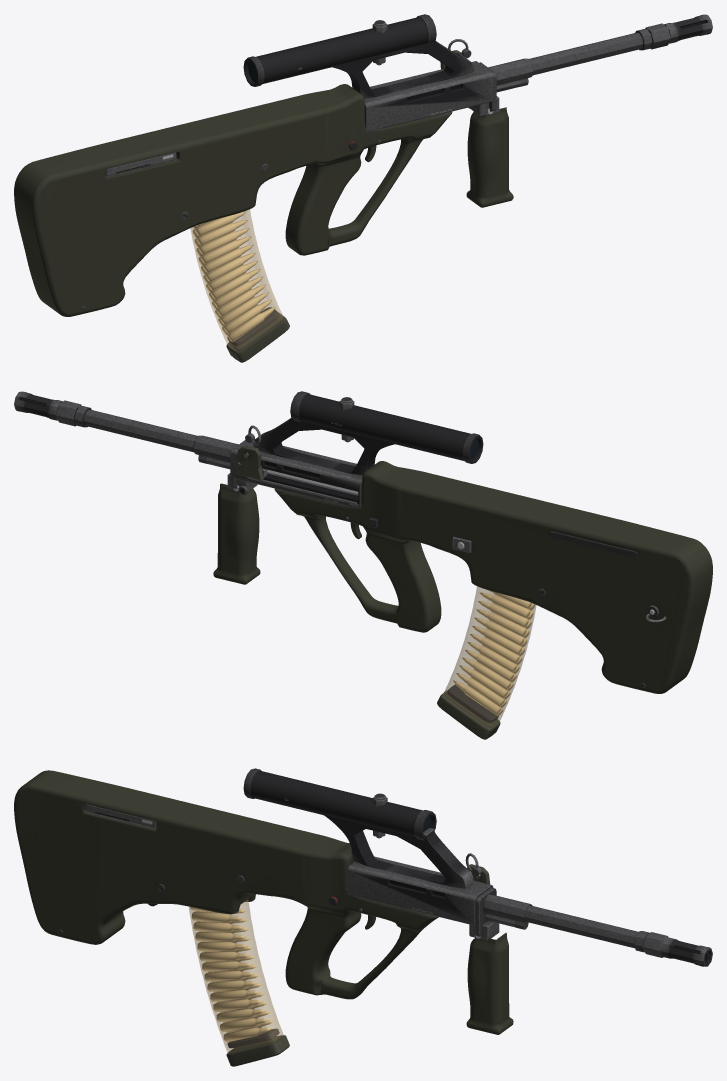
File: aug.gltf
3 renders of one model, top to bottom at view 1: azimuth 30°, elevation 25°; view 2: azimuth 150°, elevation 25°; view 3: azimuth 330°, elevation 25°, orthographic.
Visible parts, largest first — view 1: body, mag_shell, mag_rounds, magazine; view 2: body, mag_shell, mag_rounds, magazine, charging_handle, mag_follower; view 3: body, mag_shell, mag_rounds, magazine.
Part boxes in pixels (x1,y1,x2,y2): body: (14, 14, 712, 316); mag_shell: (190, 209, 283, 351); mag_rounds: (192, 211, 275, 342); magazine: (226, 312, 289, 362); body: (14, 391, 712, 693); mag_shell: (443, 586, 536, 728); mag_rounds: (453, 590, 535, 716); magazine: (437, 690, 500, 739); charging_handle: (235, 445, 267, 480); mag_follower: (447, 684, 498, 723); body: (14, 768, 712, 1034); mag_shell: (188, 900, 283, 1052); mag_rounds: (190, 902, 273, 1042); magazine: (226, 1035, 289, 1066).
Bounding box in the file's own units: 0.7907 × 0.3335 × 0.0613.
Materials: 3 (1 with a texture image).
